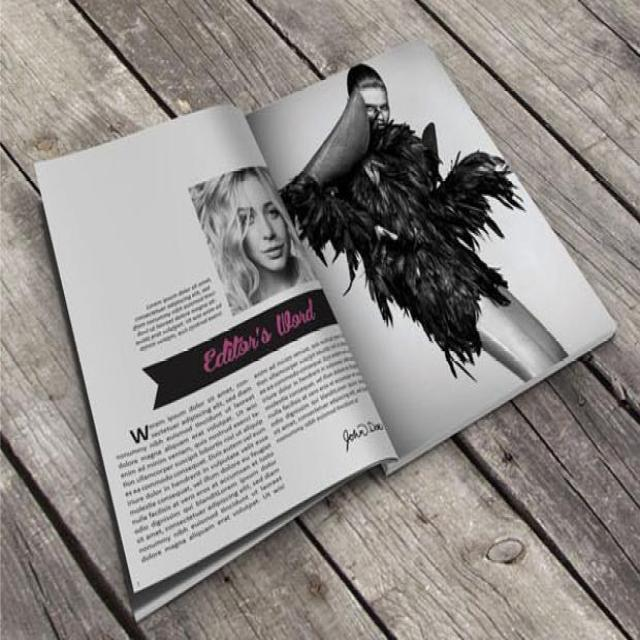paper: (36, 34, 619, 624)
